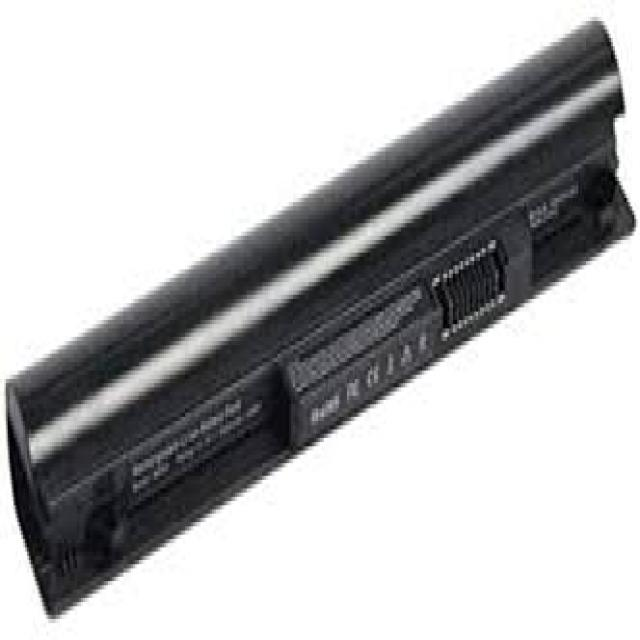non-organic waste: (6, 18, 635, 618)
